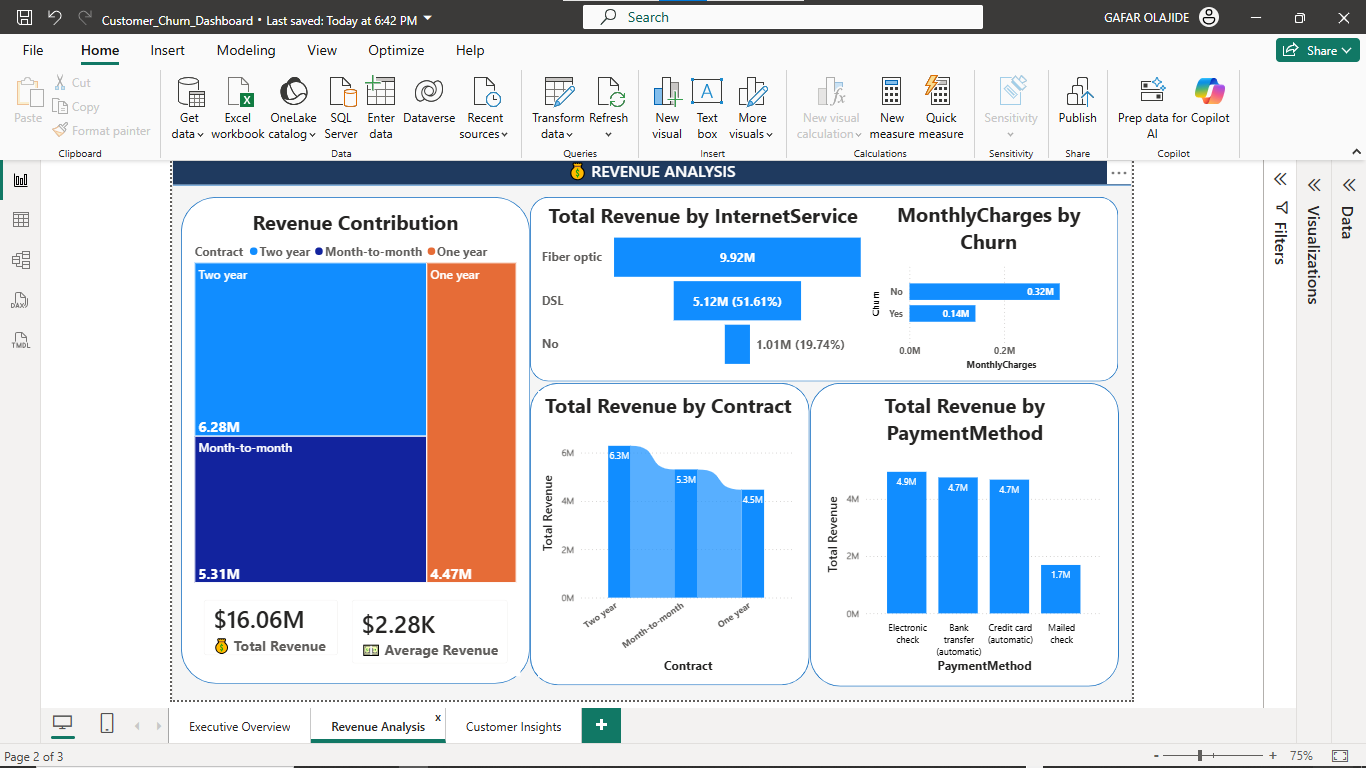

The page's visual inventory and layout, read from the dashboard file:
{"tool":"powerbi","page":{"name":"Revenue Analysis","canvas":[1280,720],"ordinal":1},"visuals":[{"type":"shape","title":"💰 REVENUE ANALYSIS","box":[0,0,1280,721.2],"z":0},{"type":"shape","box":[477.8,297.7,372.6,402.9],"z":1000},{"type":"shape","box":[850.4,297.7,411.8,404.7],"z":2000},{"type":"shape","box":[477.8,49.9,784.4,246],"z":3000},{"type":"shape","box":[12.5,49.9,465.3,648.9],"z":4000},{"type":"ribbonChart","fields":{"Category":["telecom_customer_churn.Contract"],"Y":["telecom_customer_churn.Total Revenue"]},"box":[488.5,308.4,347.6,381.5],"z":5000},{"type":"clusteredColumnChart","fields":{"Y":["telecom_customer_churn.Total Revenue"],"Category":["telecom_customer_churn.PaymentMethod"]},"box":[868.2,308.4,377.9,381.5],"z":6000},{"type":"treemap","title":"Revenue Contribution","fields":{"Group":["telecom_customer_churn.Contract","telecom_customer_churn.InternetService","telecom_customer_churn.PaymentMethod"],"Values":["telecom_customer_churn.Total Revenue"]},"box":[25,64.2,438.6,504.5],"z":7000},{"type":"cardVisual","fields":{"Data":["telecom_customer_churn.Average Customer Value"]},"box":[222.8,568.7,242.5,119.4],"z":8000},{"type":"cardVisual","fields":{"Data":["telecom_customer_churn.Total Revenue"]},"box":[25,568.7,213.9,108.7],"z":9000},{"type":"funnel","fields":{"Category":["telecom_customer_churn.InternetService"],"Y":["telecom_customer_churn.Total Revenue"]},"box":[488.5,55.3,440.3,230],"z":10000},{"type":"barChart","fields":{"Category":["telecom_customer_churn.Churn"],"Y":["Sum(telecom_customer_churn.MonthlyCharges)"]},"box":[928.8,53.5,319.1,231.8],"z":11000}]}

Visuals, with their boxes on the page's 1280x720 design canvas (x1, y1, x2, y2). These are canvas units, not pixel positions in the 1366x768 screenshot, which may show the page scaled, cropped or inside an application window:
"💰 REVENUE ANALYSIS" shape: 0, 0, 1280, 721
shape: 478, 298, 850, 701
shape: 850, 298, 1262, 702
shape: 478, 50, 1262, 296
shape: 12, 50, 478, 699
ribbonChart - telecom_customer_churn.Contract x telecom_customer_churn.Total Revenue: 488, 308, 836, 690
clusteredColumnChart - telecom_customer_churn.Total Revenue x telecom_customer_churn.PaymentMethod: 868, 308, 1246, 690
"Revenue Contribution" treemap: 25, 64, 464, 569
cardVisual - telecom_customer_churn.Average Customer Value: 223, 569, 465, 688
cardVisual - telecom_customer_churn.Total Revenue: 25, 569, 239, 677
funnel - telecom_customer_churn.InternetService x telecom_customer_churn.Total Revenue: 488, 55, 929, 285
barChart - telecom_customer_churn.Churn x Sum(telecom_customer_churn.MonthlyCharges): 929, 54, 1248, 285
